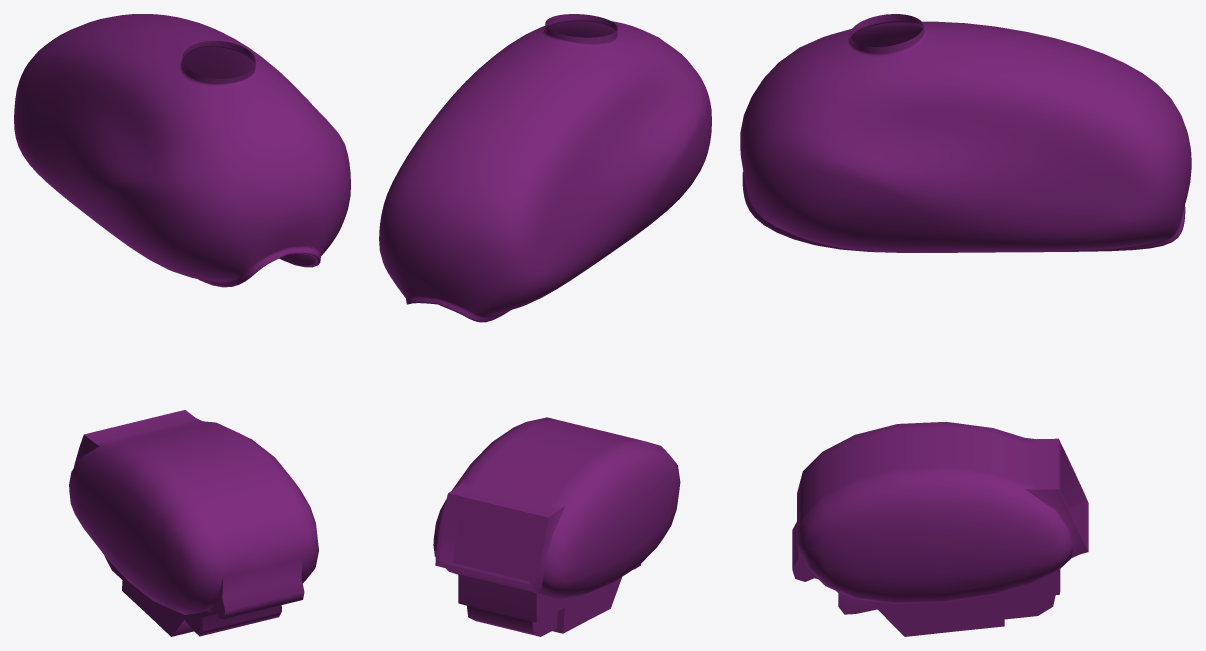
The model's file is Simsonparts.dae.
The picture shows the model from 3 angles, left to right: view 1: azimuth 30°, elevation 25°; view 2: azimuth 150°, elevation 25°; view 3: azimuth 270°, elevation 25°; orthographic projection. The views are drawn at different scales.
Visible parts, largest first — view 1: Monobike.009, Monobike.035; view 2: Monobike.009, Monobike.035; view 3: Monobike.009, Monobike.035.
Part boxes in pixels (bbox=[...]): Monobike.009: bbox=[14, 14, 350, 287]; Monobike.035: bbox=[69, 410, 318, 636]; Monobike.009: bbox=[379, 14, 711, 322]; Monobike.035: bbox=[433, 417, 680, 636]; Monobike.009: bbox=[740, 14, 1191, 252]; Monobike.035: bbox=[792, 422, 1088, 636].
Bounding box in the file's own units: 0.2971 × 0.5484 × 0.7925.
